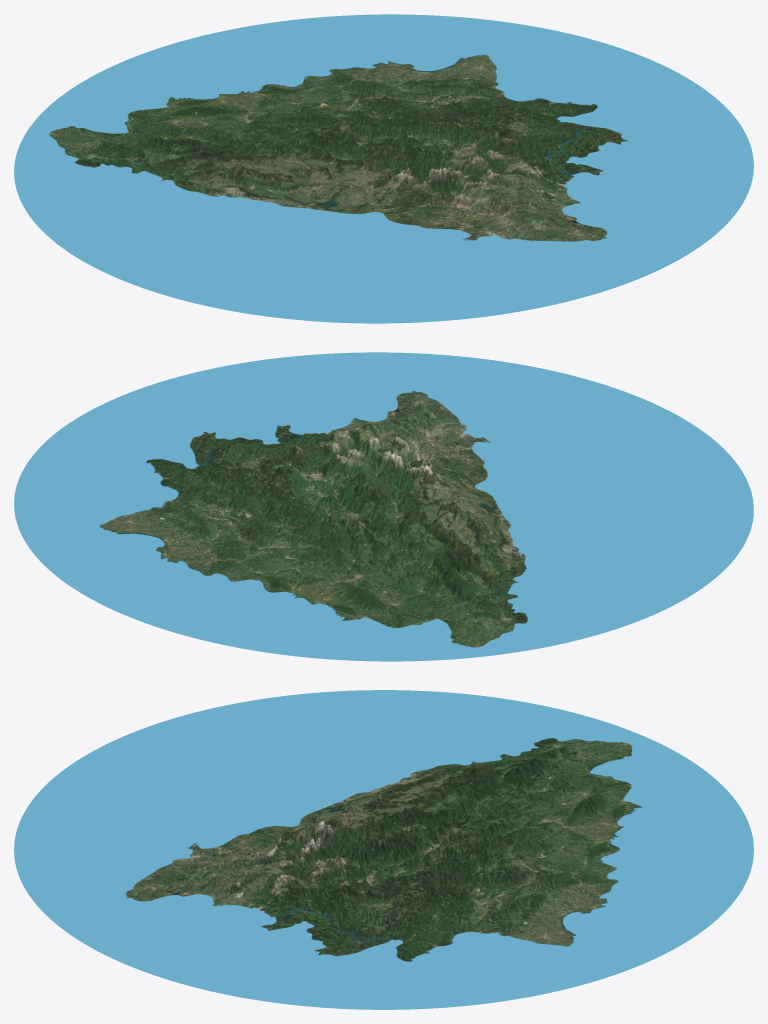
File: BIH-previa-terrain.glb
3 views of the same model, one above another, from view 1: azimuth 30°, elevation 25°; view 2: azimuth 150°, elevation 25°; view 3: azimuth 270°, elevation 25° (orthographic).
Visible parts, largest first — view 1: Bósnia e Herzegovina; view 2: Bósnia e Herzegovina; view 3: Bósnia e Herzegovina.
Boxes of the visible parts, x1,y1,x2,y2 form: Bósnia e Herzegovina: (14,14,753,323); Bósnia e Herzegovina: (14,352,753,661); Bósnia e Herzegovina: (14,690,753,1009).
Size of the model in its own units: 2.49 by 0.0813 by 2.44.
Materials: 1 (1 with a texture image).
